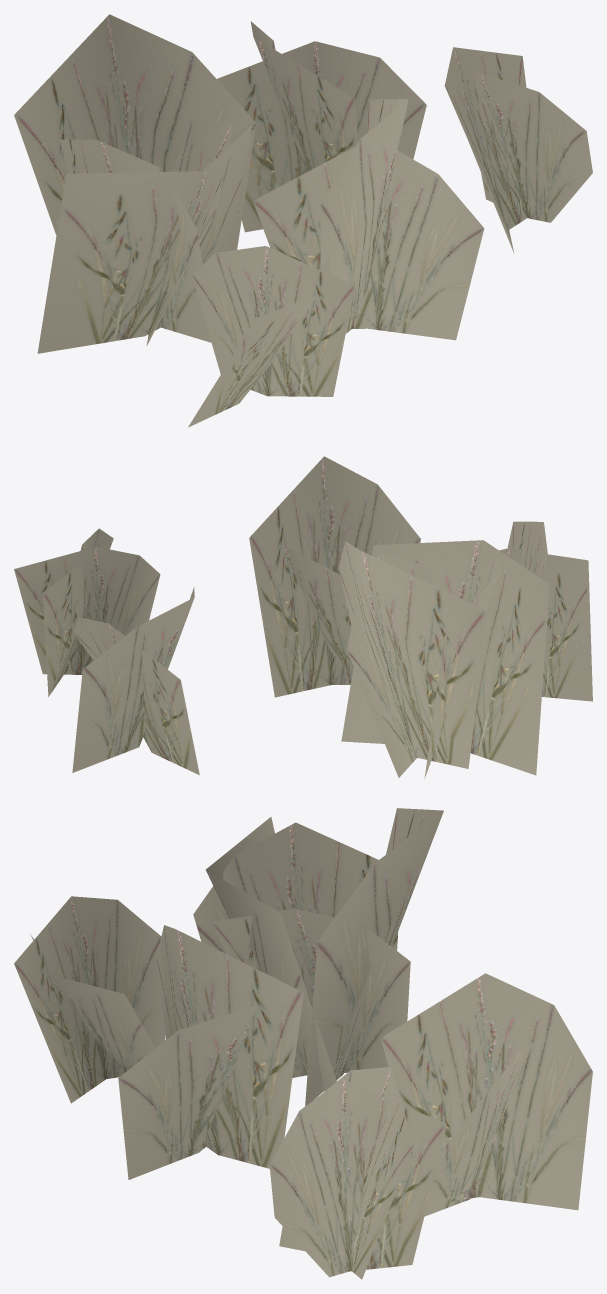
File: proc_drygrasses01b.FBX
The picture shows the model from 3 angles, top to bottom: view 1: azimuth 30°, elevation 25°; view 2: azimuth 150°, elevation 25°; view 3: azimuth 270°, elevation 25°; orthographic projection. The views are drawn at different scales.
Visible parts, largest first — view 1: proc_drygrasses01b; view 2: proc_drygrasses01b; view 3: proc_drygrasses01b.
Part boxes in pixels (x1=…): proc_drygrasses01b: x1=14, y1=14, x2=592, y2=427; proc_drygrasses01b: x1=14, y1=456, x2=592, y2=778; proc_drygrasses01b: x1=14, y1=808, x2=592, y2=1279.
Size of the model in its own units: 2.38 by 2.15 by 1.15.
1 material, 1 textured.
